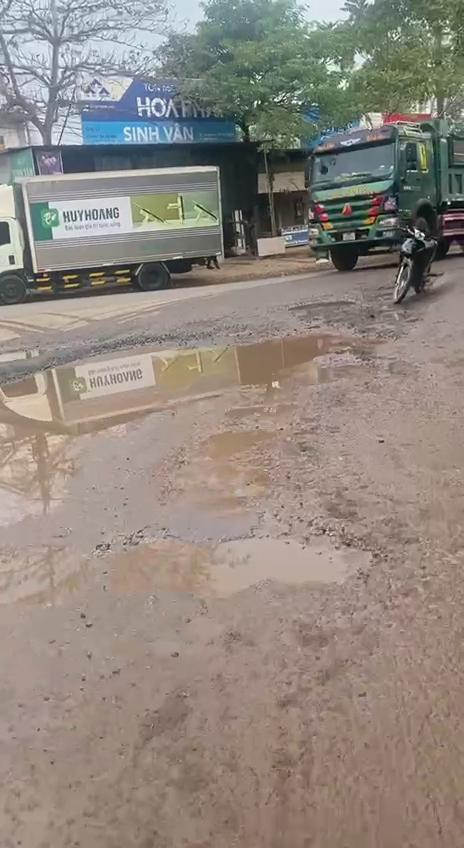pothole: (0, 292, 420, 539), (101, 523, 384, 605), (176, 406, 311, 510)
